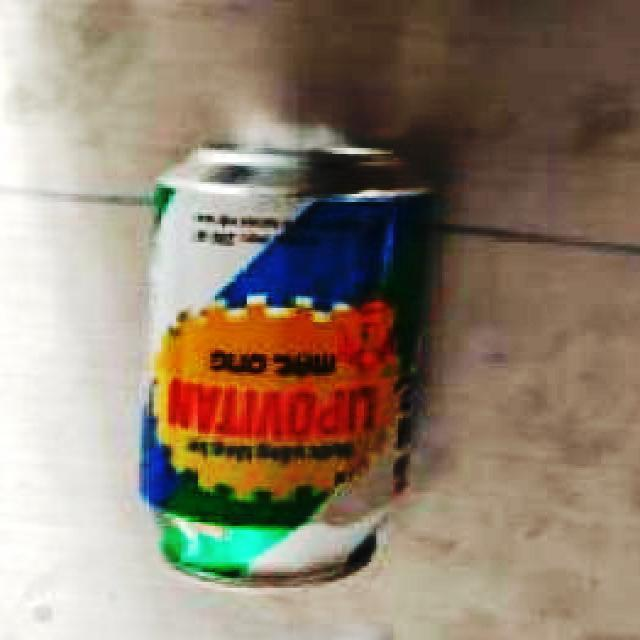Lata: (138, 138, 435, 587)
